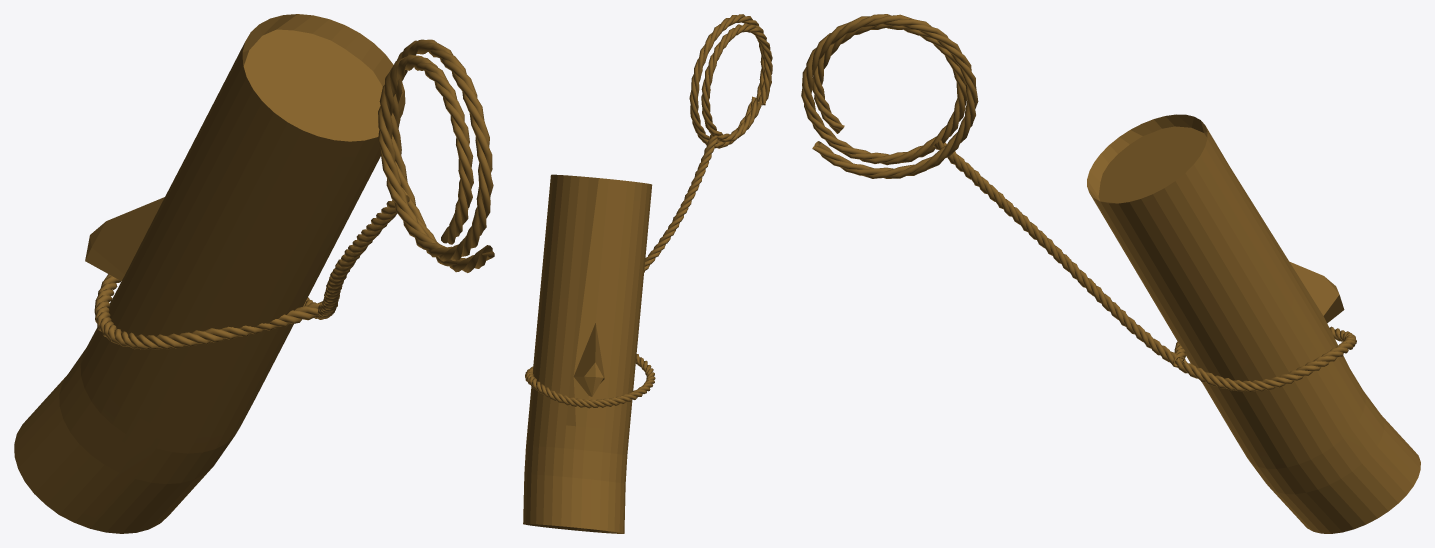
The model's file is Animated_Boomstam.fbx.
3 views of the same model, side by side, from view 1: azimuth 30°, elevation 25°; view 2: azimuth 150°, elevation 25°; view 3: azimuth 270°, elevation 25° (orthographic). The views are drawn at different scales.
Parts seen in each view (by area): view 1: Circle.002; view 2: Circle.002; view 3: Circle.002.
Part boxes in pixels (x1=…): Circle.002: x1=14, y1=14, x2=494, y2=533; Circle.002: x1=523, y1=14, x2=772, y2=533; Circle.002: x1=801, y1=14, x2=1420, y2=533.
Bounding box in the file's own units: 37.77 × 101 × 109.
